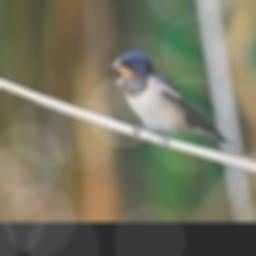Swallow: (104, 52, 235, 146)
